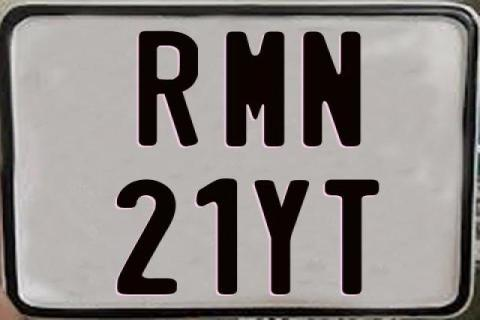0: (115, 178, 179, 294), (193, 179, 240, 299)
M: (227, 29, 286, 145)
N: (300, 31, 358, 147)
R: (140, 30, 202, 148)
T: (326, 177, 386, 295)
Y: (253, 180, 314, 296)
